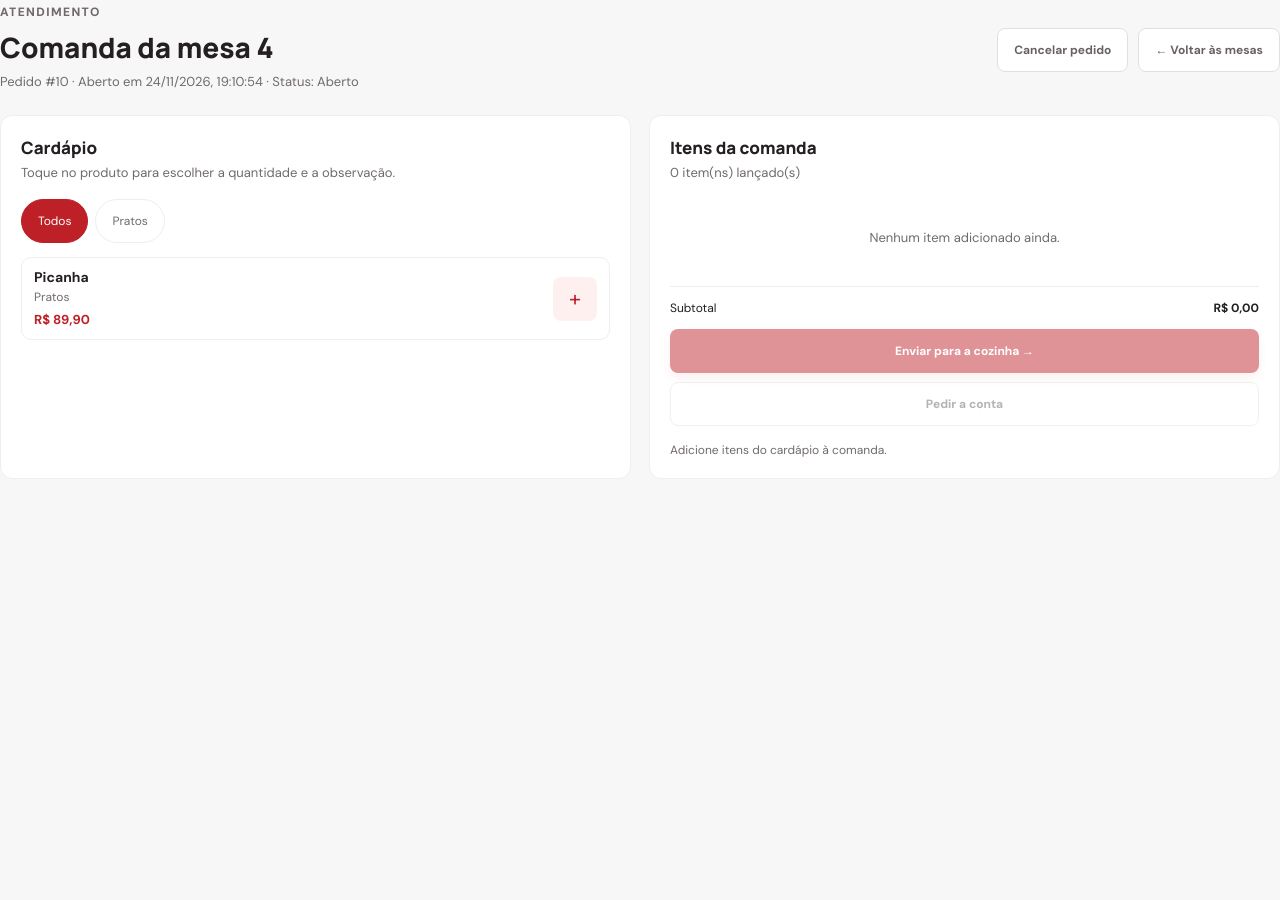
Test: Limite de itens por lançamento (RN-21, spec 022) › gerente: sem o limite do garçom (o seletor segue até 99) e sem a dica
The image size is (1280, 900).
Click the button "Picanha Pratos R$ 89,90 +": (61,277) x1=21 y1=257 x2=610 y2=340
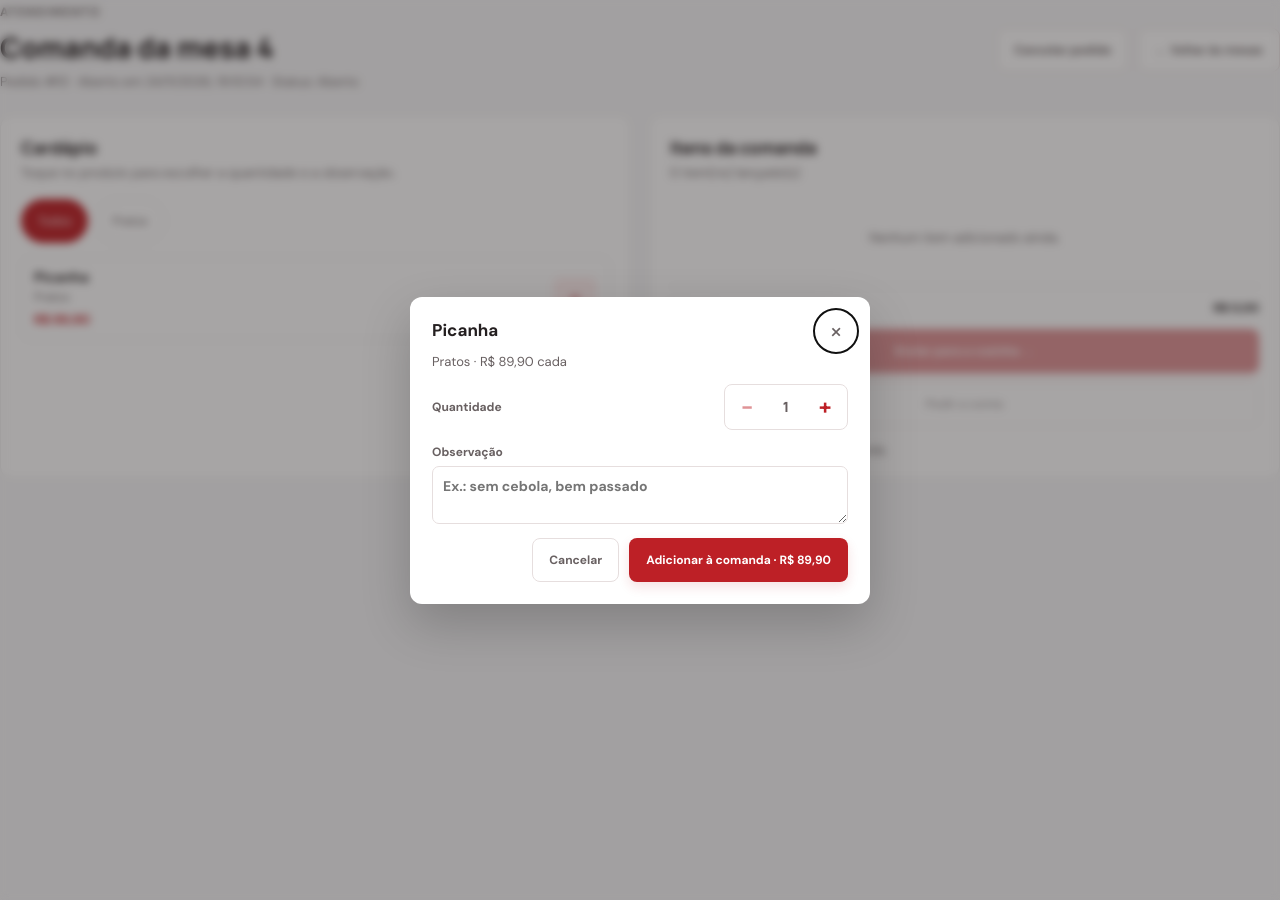
Click the button named "Aumentar quantidade": (825,406) x1=803 y1=384 x2=847 y2=428
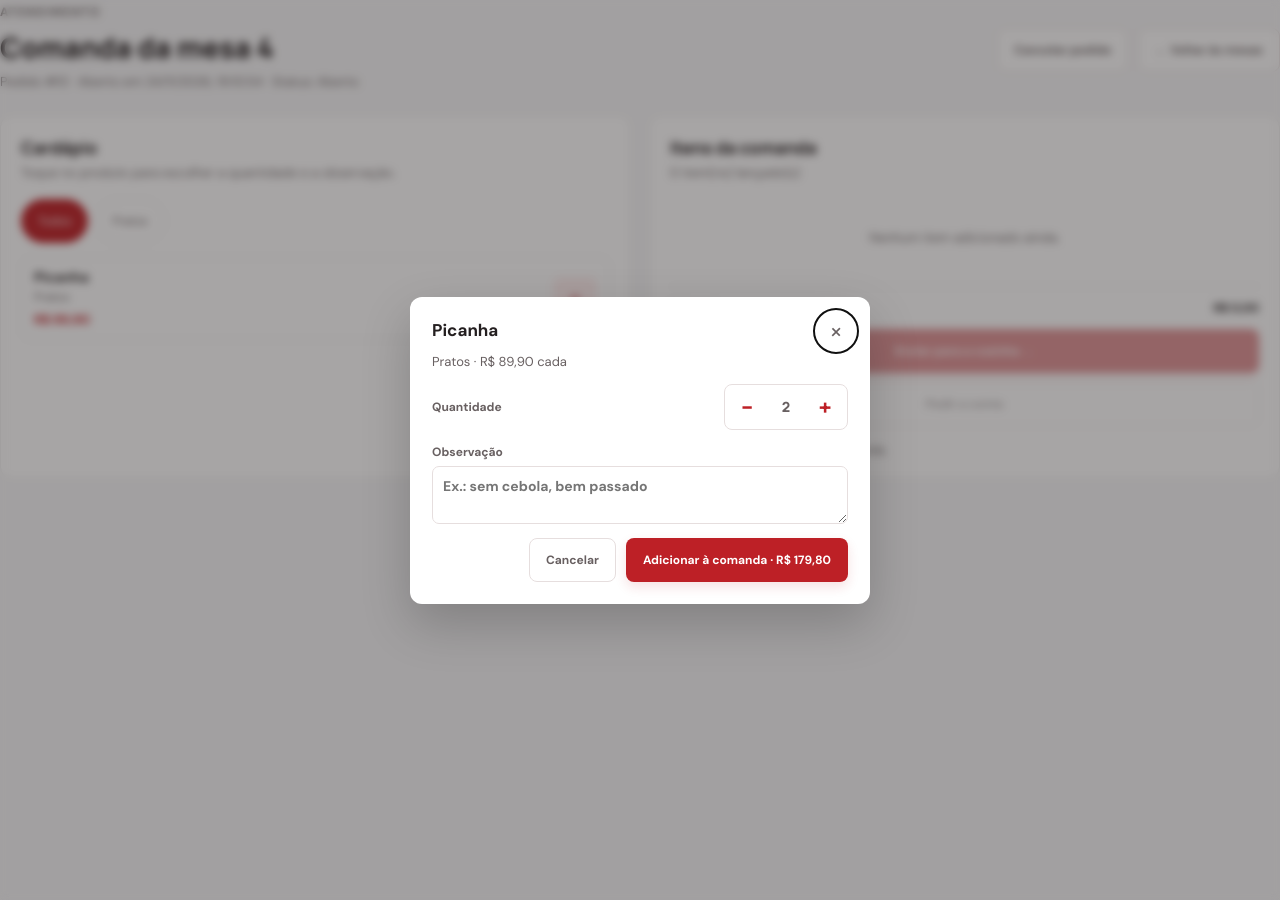
Click the button named "Aumentar quantidade": (825,406) x1=803 y1=384 x2=847 y2=428
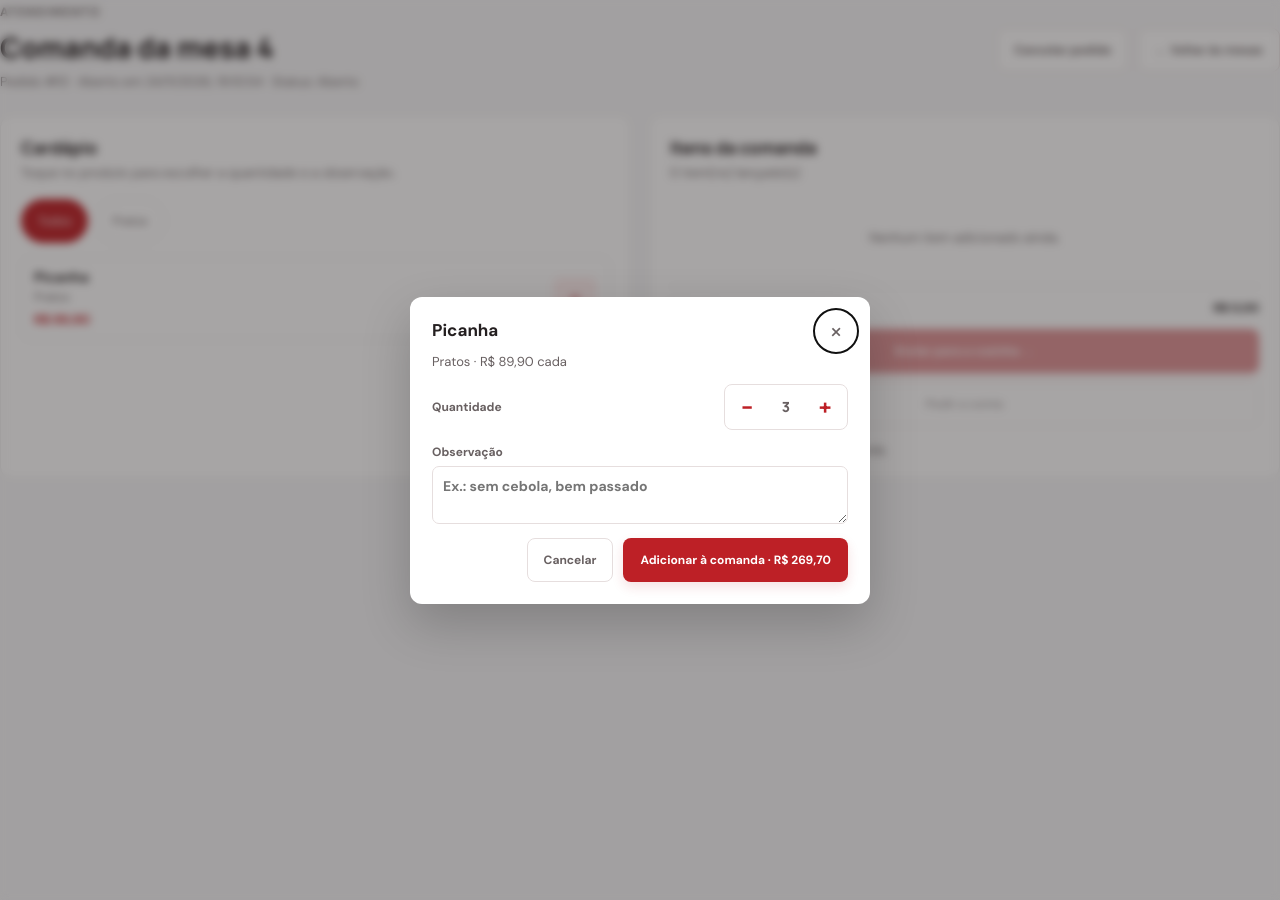
Click the button named "Aumentar quantidade": (825,406) x1=803 y1=384 x2=847 y2=428
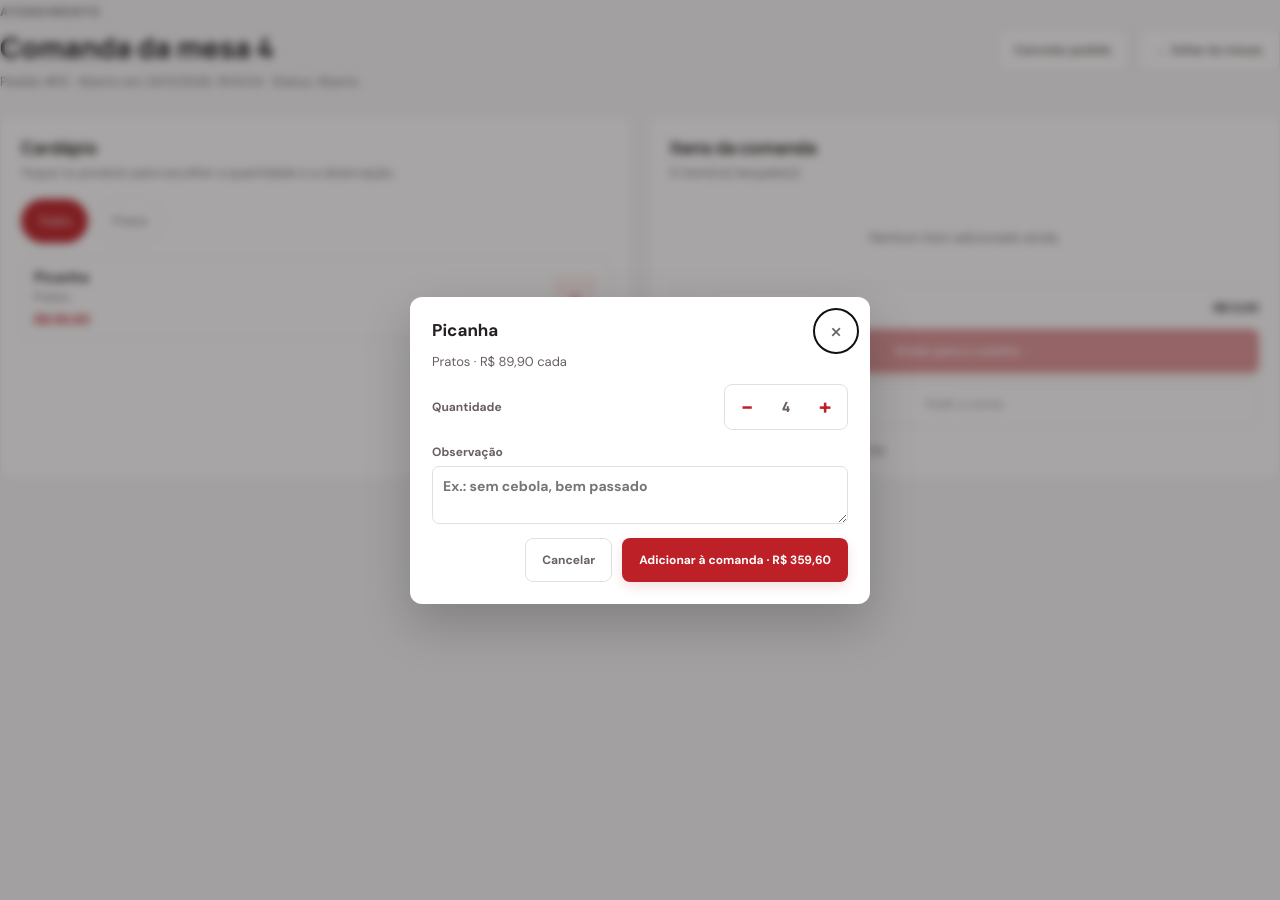
Now the button named "Aumentar quantidade" is enabled, box x1=803 y1=384 x2=847 y2=428
Now the text "4" is shown, box x1=782 y1=397 x2=790 y2=416
